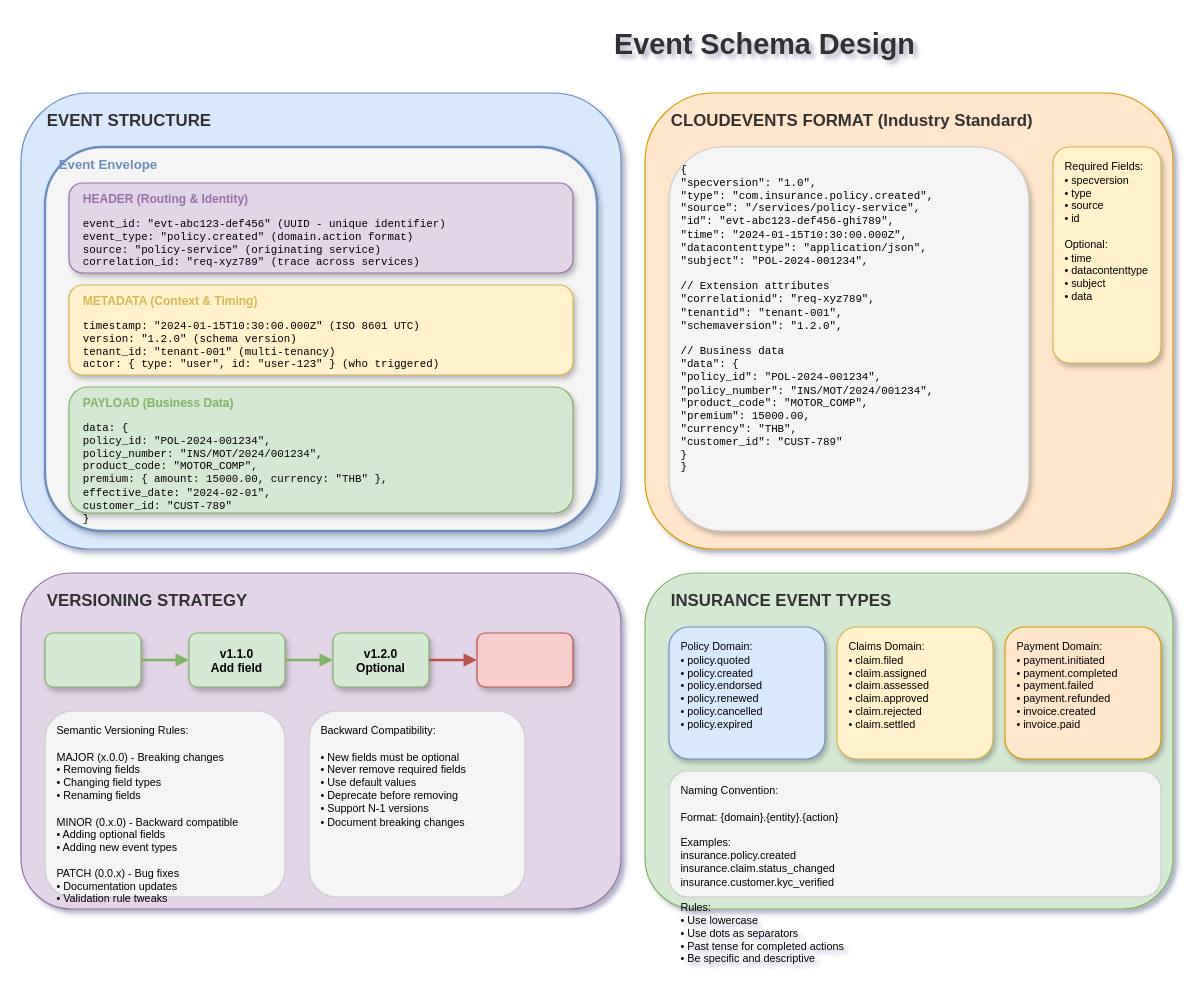
Image size: 1201x994. Some labels were removed from this diagram. The centre of each missing label's shape, as x and y in pixels:
"v1.0.0 Initial" goes at (x=93, y=661).
"v2.0.0 Breaking" goes at (x=525, y=661).
